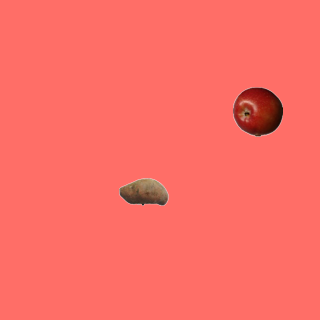Apple Braeburn: (232, 86, 282, 136)
Potato Sweet: (118, 166, 168, 216)
